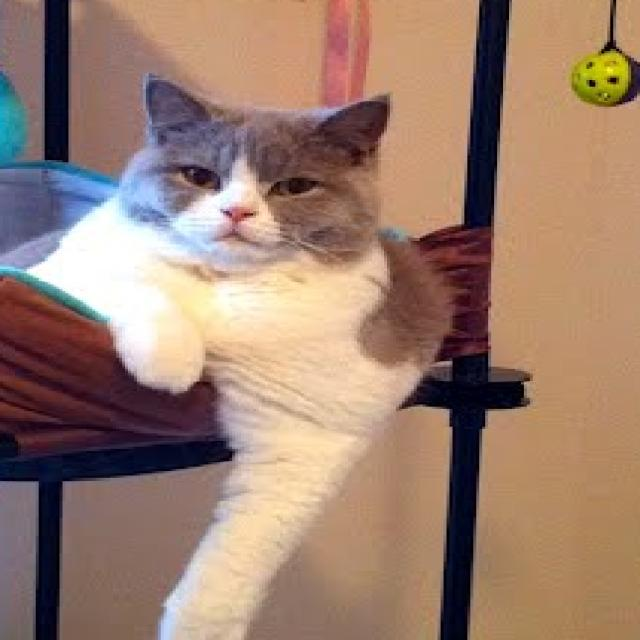British Shorthair: (21, 69, 455, 640)
